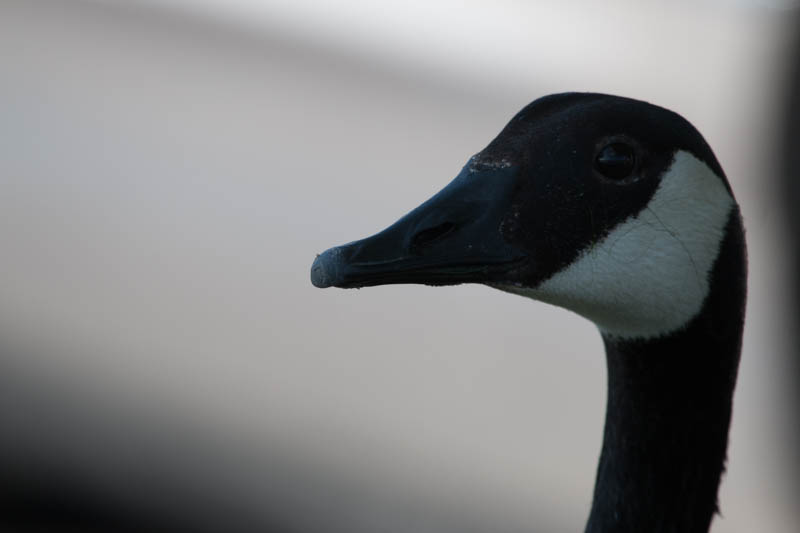goose-head: (308, 91, 748, 339)
